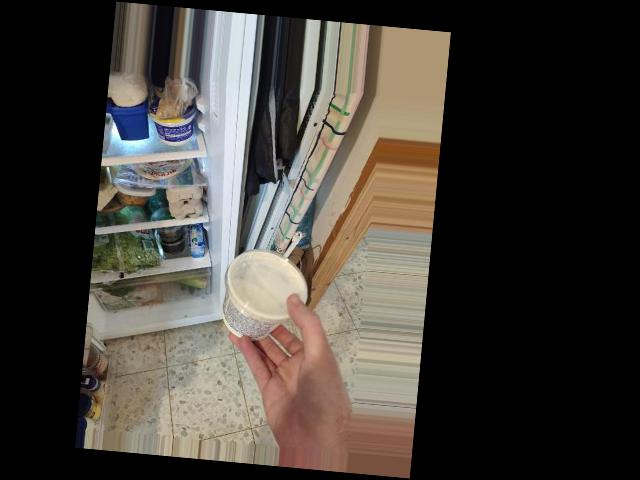cotage: (224, 248, 302, 337)
